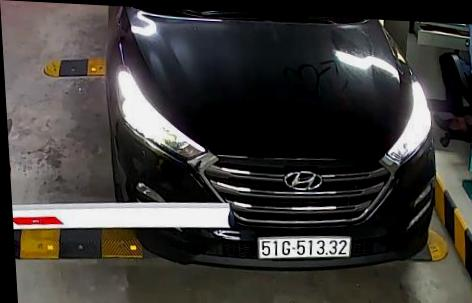License_Plate: (253, 227, 356, 268)
